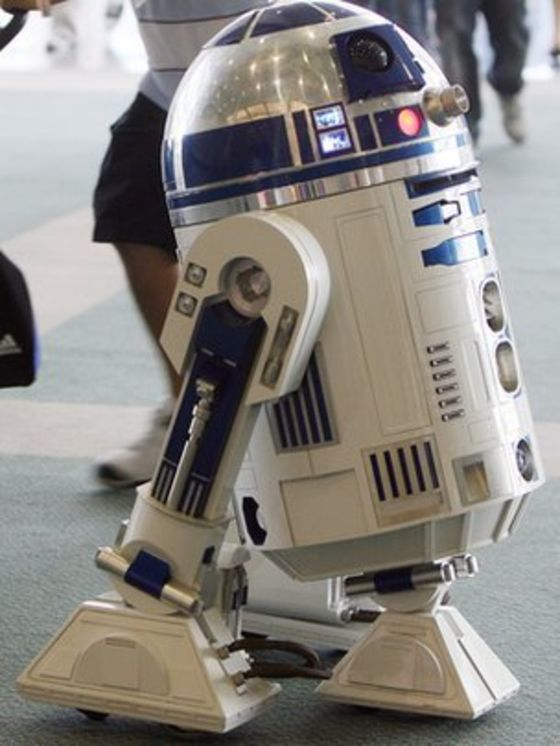r2d2: (17, 1, 547, 733)
